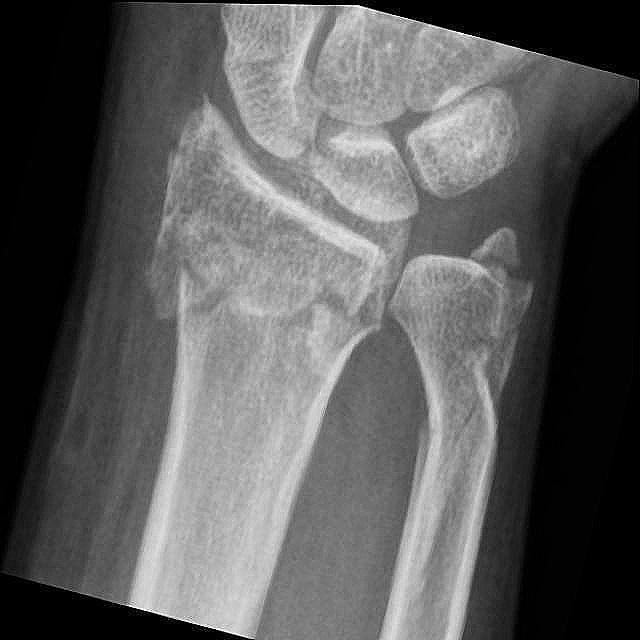bone: (134, 109, 394, 337)
